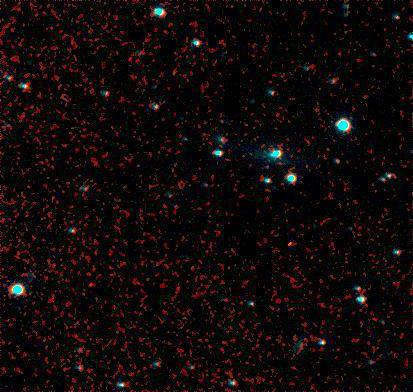star: (273, 228, 303, 258)
